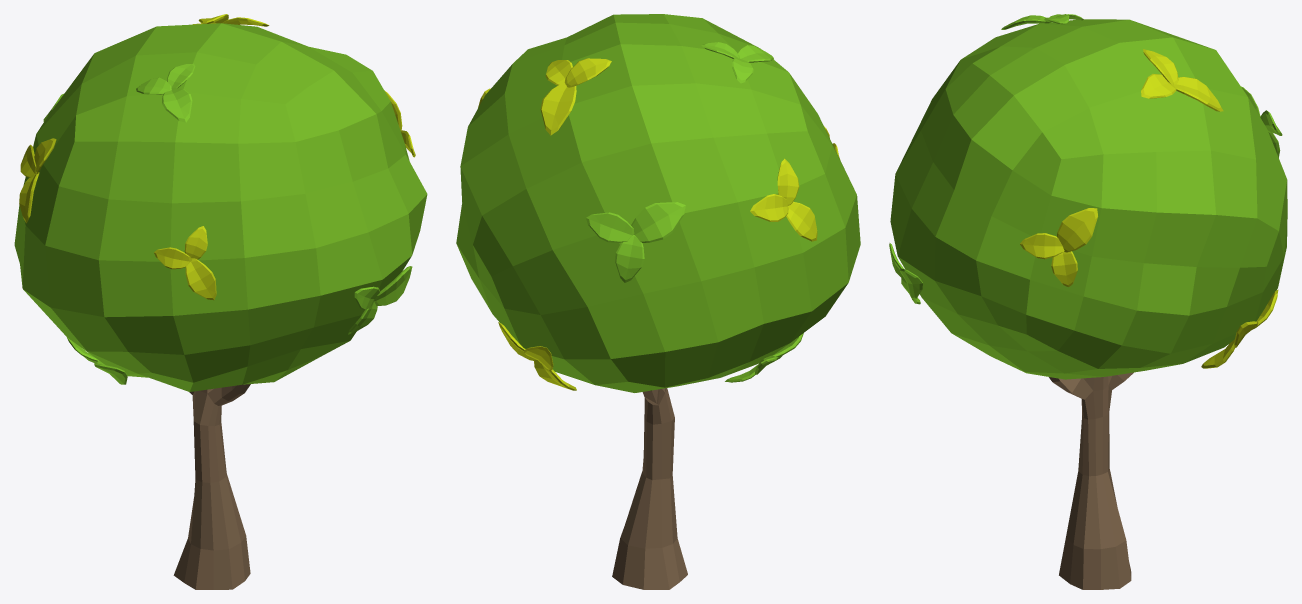
Rendered from SM_Tree_4.fbx.
3 views of the same model, side by side, from view 1: azimuth 30°, elevation 25°; view 2: azimuth 150°, elevation 25°; view 3: azimuth 270°, elevation 25° (orthographic).
Parts seen in each view (by area): view 1: SM_Tree_4_LOD0; view 2: SM_Tree_4_LOD0; view 3: SM_Tree_4_LOD0.
Boxes of the visible parts, x1,y1,x2,y2 form: SM_Tree_4_LOD0: (14, 14, 427, 589); SM_Tree_4_LOD0: (456, 14, 860, 589); SM_Tree_4_LOD0: (889, 14, 1287, 589).
Size of the model in its own units: 559 by 532 by 798.
1 material, 1 textured.
